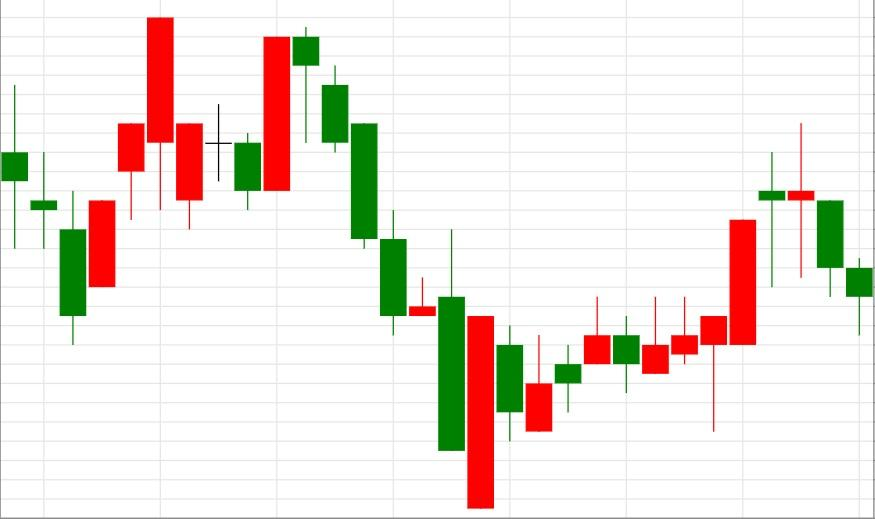hanging_man_fall: (233, 26, 320, 210)
